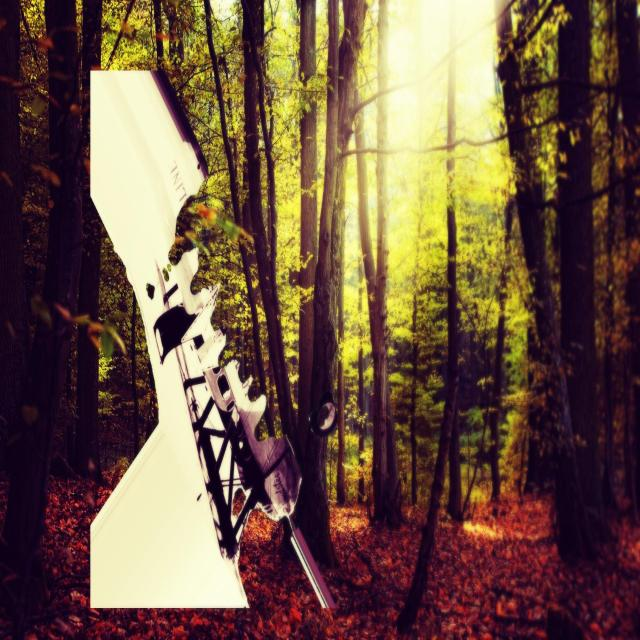airplane: (87, 66, 338, 614)
